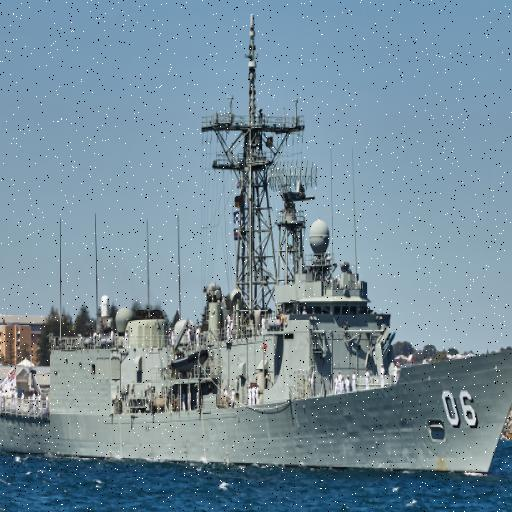Fragata: (1, 1, 512, 483)
